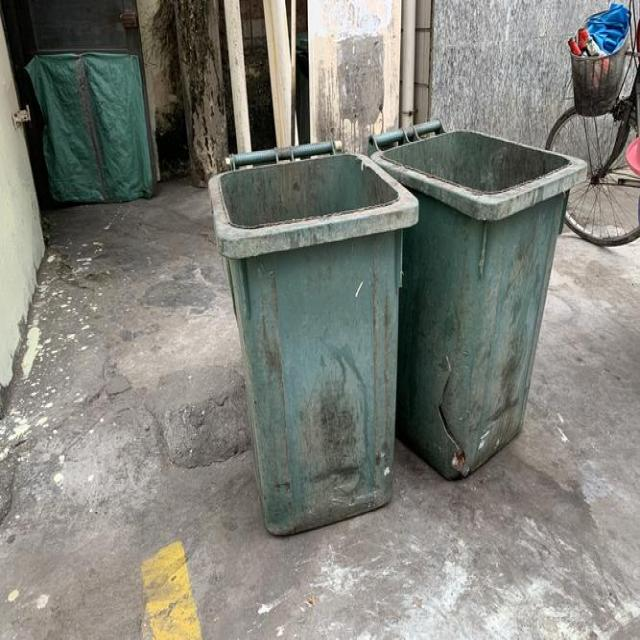garbage_bin: (208, 137, 416, 535), (367, 116, 586, 480)
